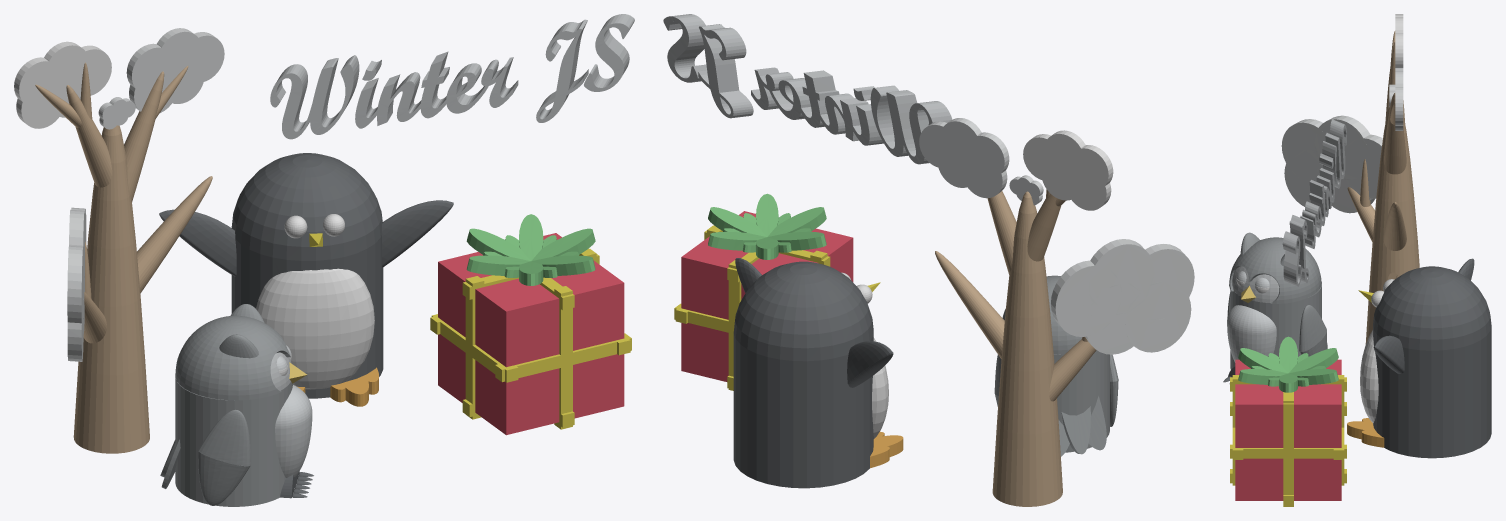
The model's file is main1.glb.
3 renders of one model, left to right at view 1: azimuth 30°, elevation 25°; view 2: azimuth 150°, elevation 25°; view 3: azimuth 270°, elevation 25°, orthographic. The views are drawn at different scales.
Visible parts, largest first — view 1: Mesh_Mesh_head_geo.001_lambert2SG.001; view 2: Mesh_Mesh_head_geo.001_lambert2SG.001; view 3: Mesh_Mesh_head_geo.001_lambert2SG.001.
Boxes of the visible parts, bbox=[...] form: Mesh_Mesh_head_geo.001_lambert2SG.001: bbox=[14, 14, 634, 506]; Mesh_Mesh_head_geo.001_lambert2SG.001: bbox=[663, 14, 1194, 506]; Mesh_Mesh_head_geo.001_lambert2SG.001: bbox=[1223, 14, 1491, 506].
Size of the model in its own units: 13.2 by 8.88 by 6.87.
